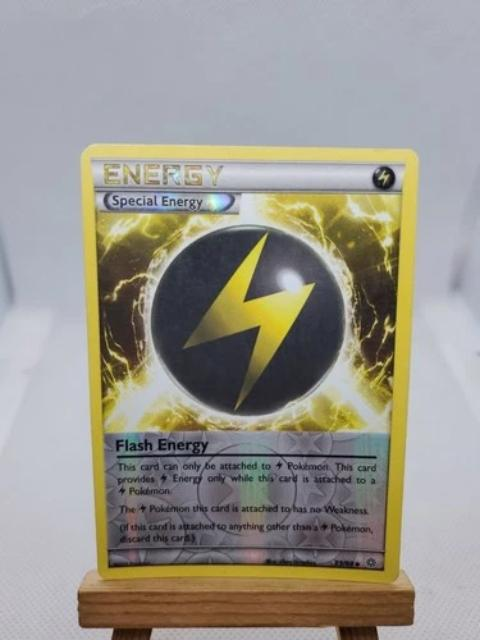Card: (77, 137, 425, 587)
Name: (110, 434, 213, 457)
